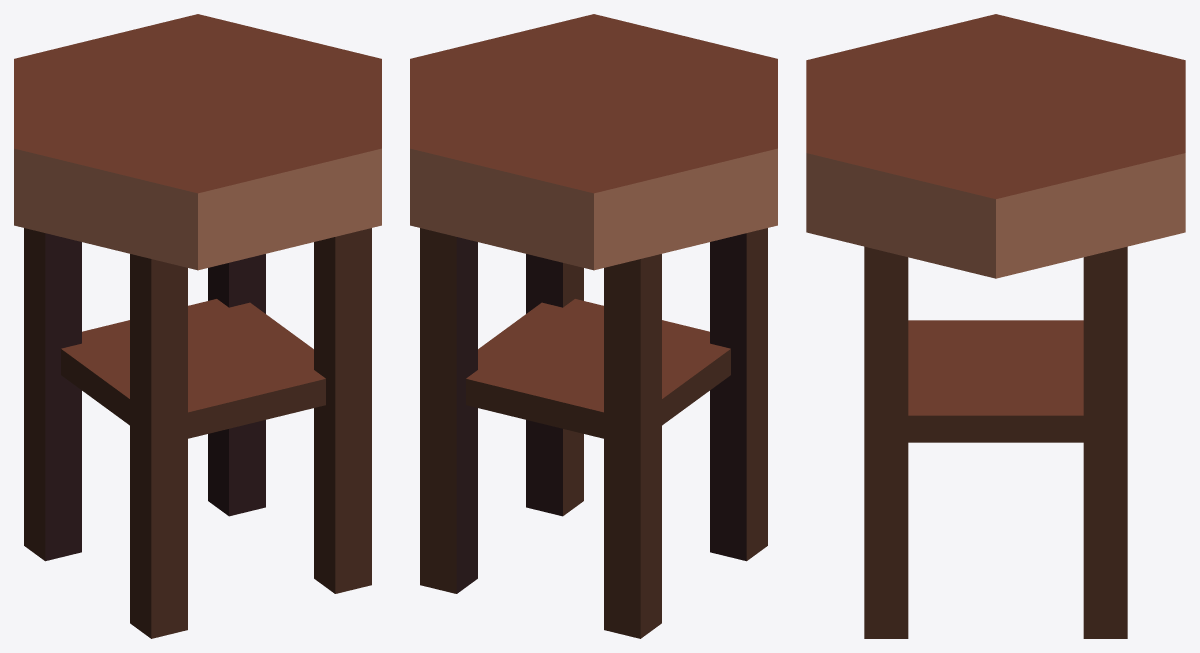
Rendered from TB_CITY_Prop_ChairSmall_B.FBX.
3 views of the same model, side by side, from view 1: azimuth 30°, elevation 25°; view 2: azimuth 150°, elevation 25°; view 3: azimuth 270°, elevation 25° (orthographic). The views are drawn at different scales.
Parts seen in each view (by area): view 1: TB_CITY_Prop_ChairSmall_B; view 2: TB_CITY_Prop_ChairSmall_B; view 3: TB_CITY_Prop_ChairSmall_B.
Part boxes in pixels (x1,y1,x2,y2): TB_CITY_Prop_ChairSmall_B: (14,14,381,638); TB_CITY_Prop_ChairSmall_B: (410,14,777,638); TB_CITY_Prop_ChairSmall_B: (806,14,1185,638).
Size of the model in its own units: 0.6032 by 0.7238 by 0.5224.
